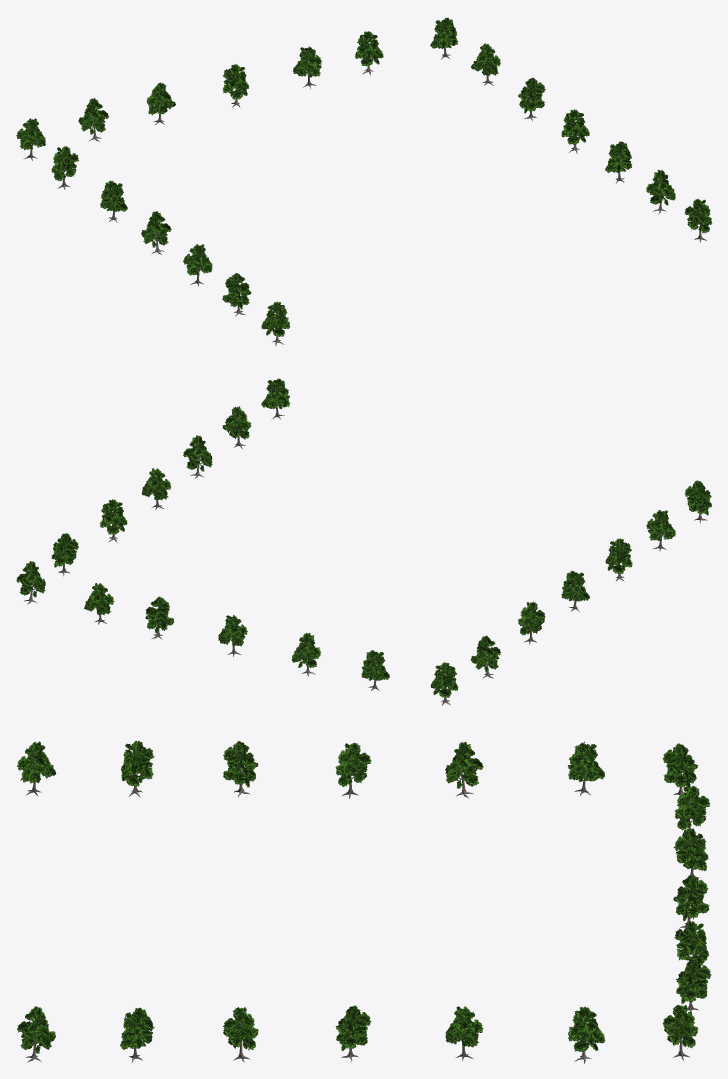
Rendered from trees.obj.
3 renders of one model, top to bottom at view 1: azimuth 30°, elevation 25°; view 2: azimuth 150°, elevation 25°; view 3: azimuth 270°, elevation 25°, orthographic. The views are drawn at different scales.
Parts seen in each view (by area): view 1: 葉_mesh_葉, _mesh_Untitled; view 2: 葉_mesh_葉, _mesh_Untitled; view 3: 葉_mesh_葉, _mesh_Untitled.
Part boxes in pixels (x1,y1,x2,y2): 葉_mesh_葉: (16,17,712,336); _mesh_Untitled: (23,28,706,346); 葉_mesh_葉: (16,378,711,697); _mesh_Untitled: (24,388,707,705); 葉_mesh_葉: (17,741,711,1053); _mesh_Untitled: (25,749,699,1063).
Size of the model in its own units: 93.1 by 8.64 by 96.35.
